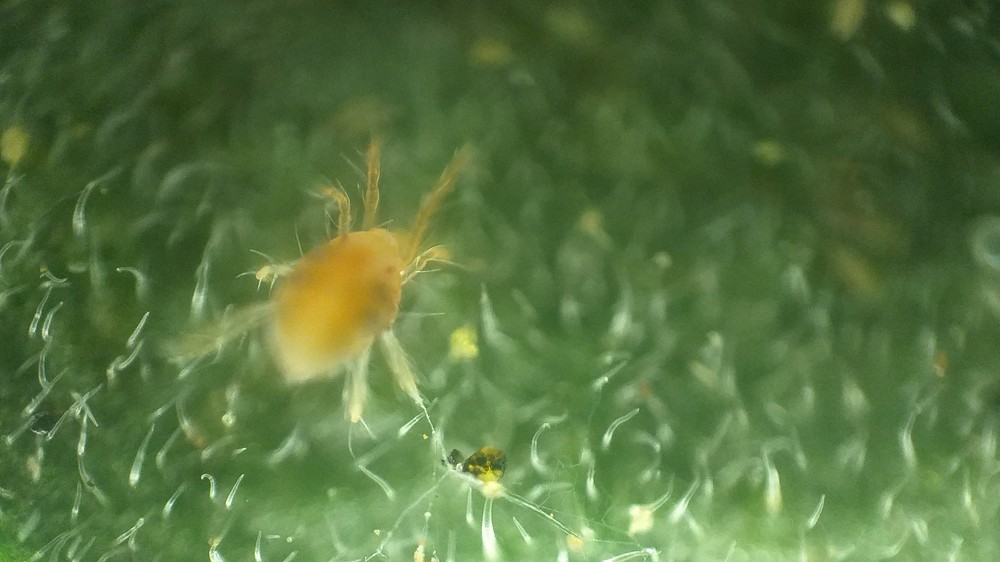Aracnido Rojo: (164, 125, 499, 454)
